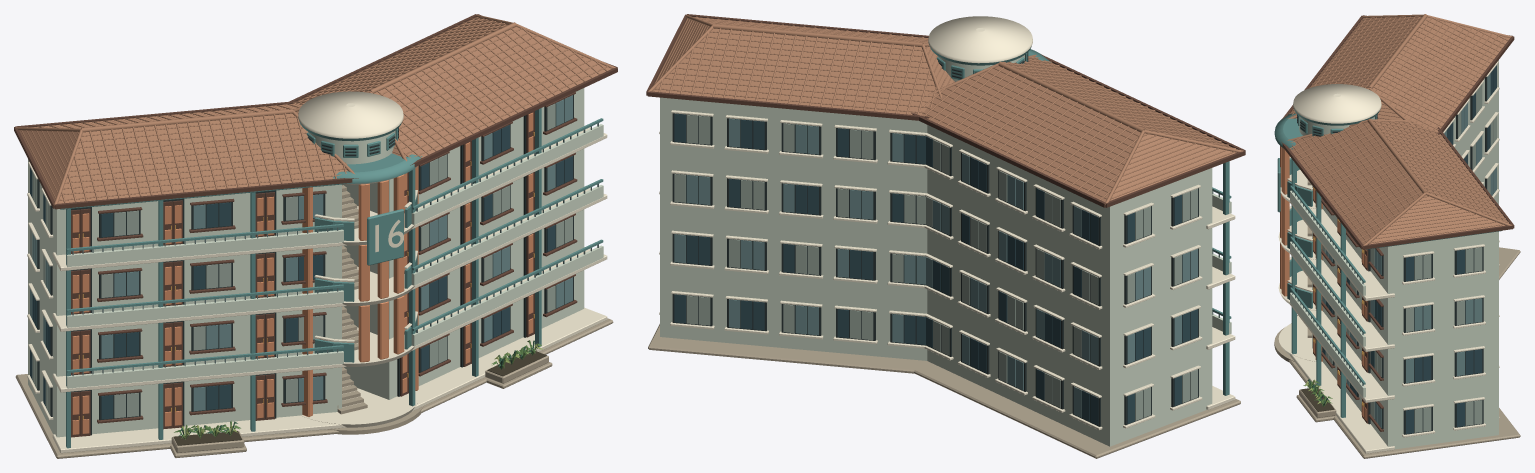
The picture shows the model from 3 angles, left to right: view 1: azimuth 30°, elevation 25°; view 2: azimuth 150°, elevation 25°; view 3: azimuth 270°, elevation 25°; orthographic projection. The views are drawn at different scales.
Parts seen in each view (by area): view 1: Access balconies, Roof covering, Splayed four-storey wings, Casements and sills, Open stair lantern, Entrance joinery, Eave fascia, Garden beds, Pandan planting; view 2: Splayed four-storey wings, Casements and sills, Roof covering, Eave fascia, Open stair lantern, Access balconies; view 3: Roof covering, Splayed four-storey wings, Access balconies, Casements and sills, Open stair lantern, Eave fascia, Entrance joinery, Garden beds, Pandan planting.
Boxes of the visible parts, x1,y1,x2,y2 form: Access balconies: [52, 108, 607, 453]; Roof covering: [16, 14, 615, 206]; Splayed four-storey wings: [15, 88, 613, 458]; Casements and sills: [27, 92, 577, 423]; Open stair lantern: [170, 91, 552, 457]; Entrance joinery: [71, 111, 534, 437]; Eave fascia: [14, 14, 617, 209]; Garden beds: [171, 349, 548, 453]; Pandan planting: [174, 340, 542, 439]; Splayed four-storey wings: [648, 97, 1240, 458]; Casements and sills: [659, 110, 1202, 430]; Roof covering: [647, 15, 1243, 204]; Eave fascia: [646, 14, 1245, 207]; Open stair lantern: [928, 16, 1050, 81]; Access balconies: [1206, 161, 1235, 409]; Roof covering: [1287, 14, 1512, 246]; Splayed four-storey wings: [1288, 60, 1520, 458]; Access balconies: [1289, 159, 1394, 453]; Casements and sills: [1321, 61, 1499, 437]; Open stair lantern: [1274, 84, 1381, 422]; Eave fascia: [1281, 15, 1514, 249]; Entrance joinery: [1313, 187, 1370, 424]; Garden beds: [1299, 388, 1336, 418]; Pandan planting: [1303, 379, 1332, 406].
Size of the model in its own units: 28.61 by 14.43 by 12.88.
